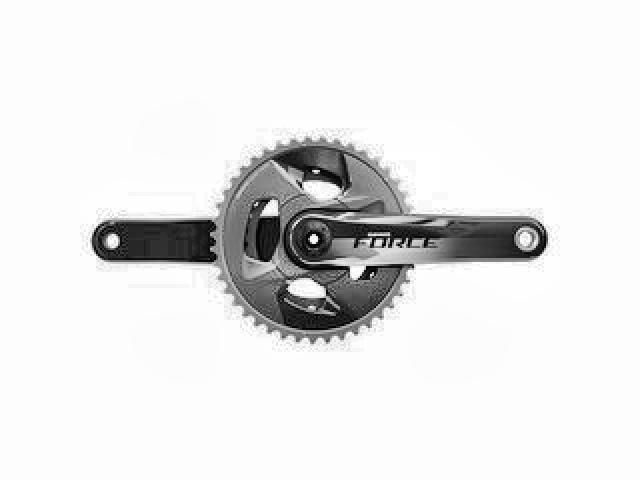cranks_set: (209, 130, 549, 344)
